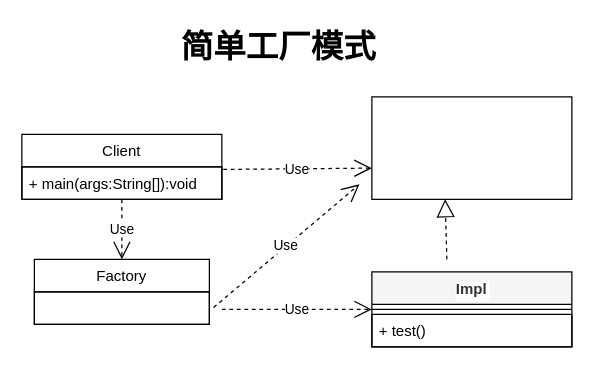
The diagram is 594 pixels wide and 371 high, and some of its shapes have lost their labels. Here are the shapes that lost their labels. From the top down, the centre of each, then its label:
At [471,147]: "<<Interface>> Api + test()".
At [121,307]: "+ creatApi(type:int)".
